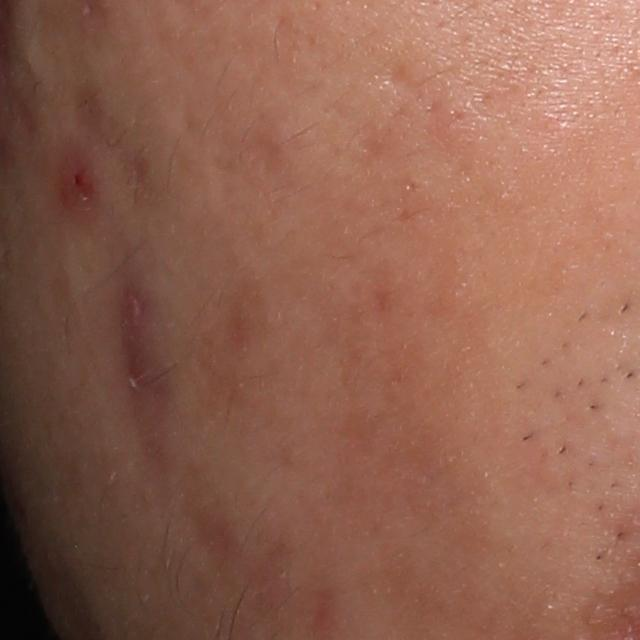atrophic_scar: (186, 124, 294, 281), (67, 72, 171, 229), (103, 260, 166, 475), (191, 502, 243, 582), (372, 56, 420, 106)
papule: (52, 162, 99, 210)
